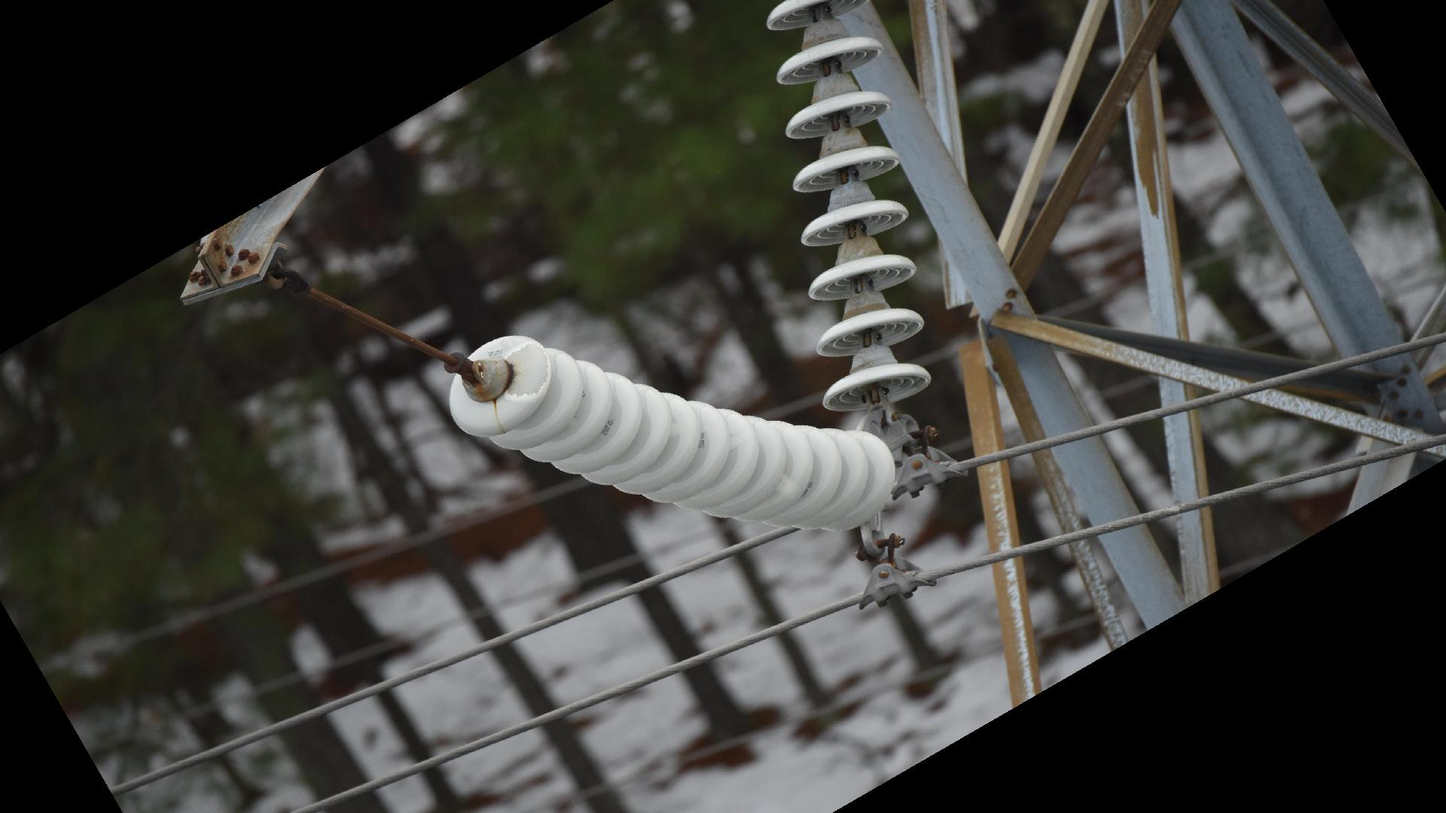insulator: (444, 328, 902, 538), (762, 1, 938, 416)
insulator_flashover: (500, 340, 553, 400)
